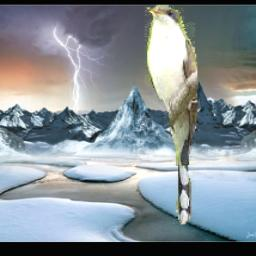Cuckoo: (145, 6, 197, 225)
